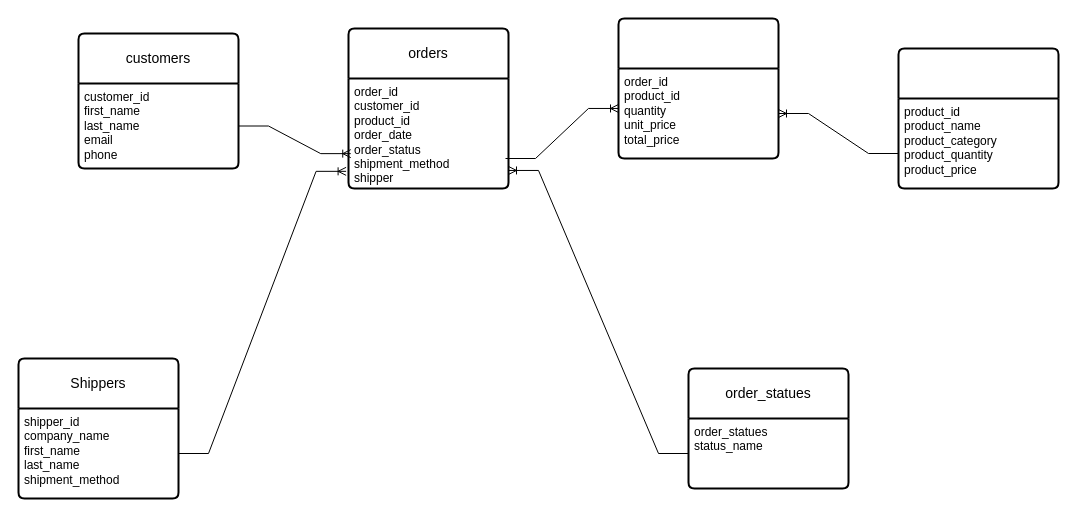
The diagram is 1076 pixels wide and 516 high, and some of its shapes have lost their labels. Here are the shapes that lost their labels. From the top down, the box of each, then its label:
(617, 17, 779, 159): o rder_items
(897, 47, 1059, 189): products(inventory DB)
